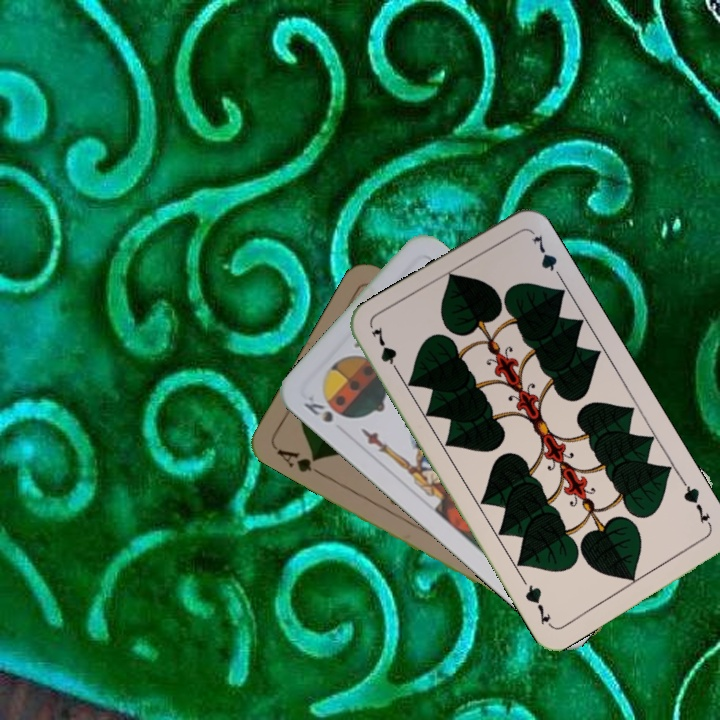G7: (366, 323, 404, 379), (678, 477, 715, 531)
GA: (272, 445, 326, 479)
SK: (299, 391, 336, 425)
